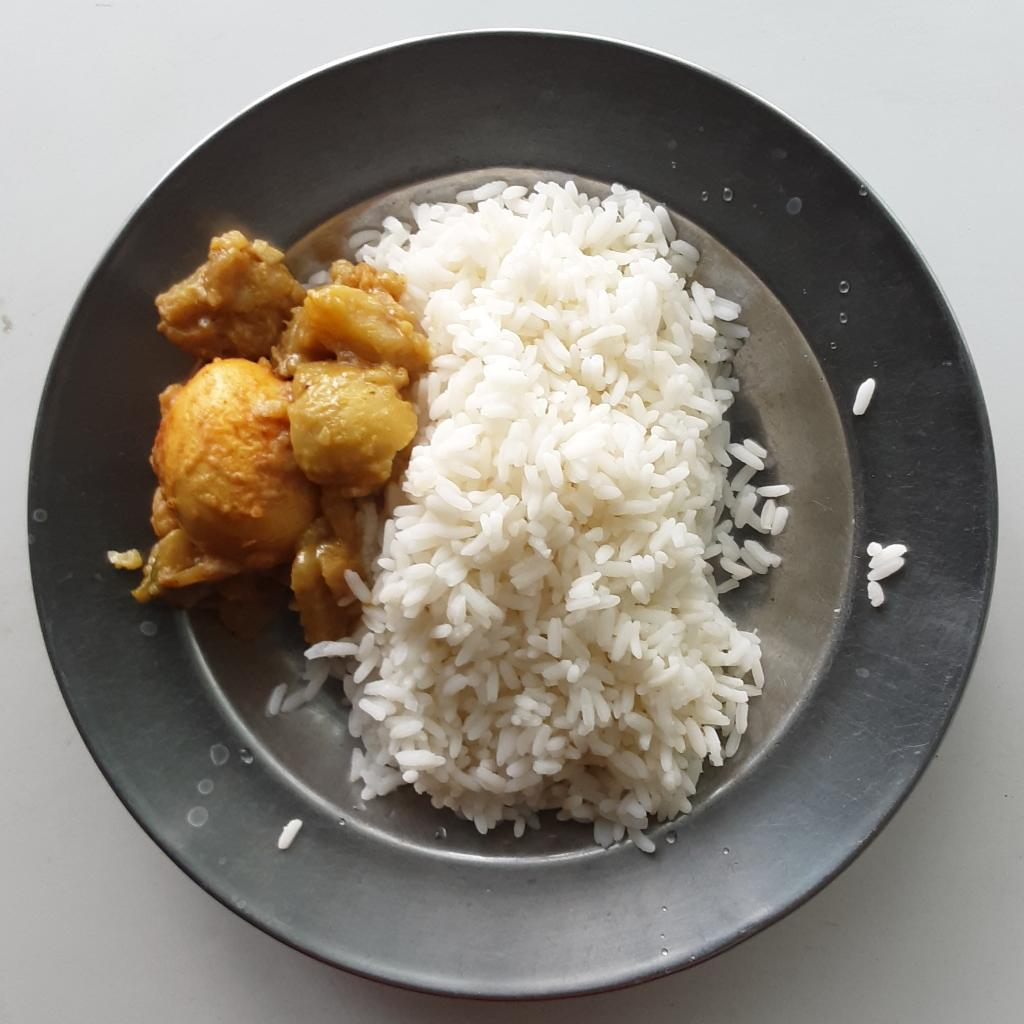egg-boiled: (156, 360, 319, 562)
potato: (156, 228, 427, 635), (132, 477, 267, 601)
rice: (272, 176, 796, 857)
